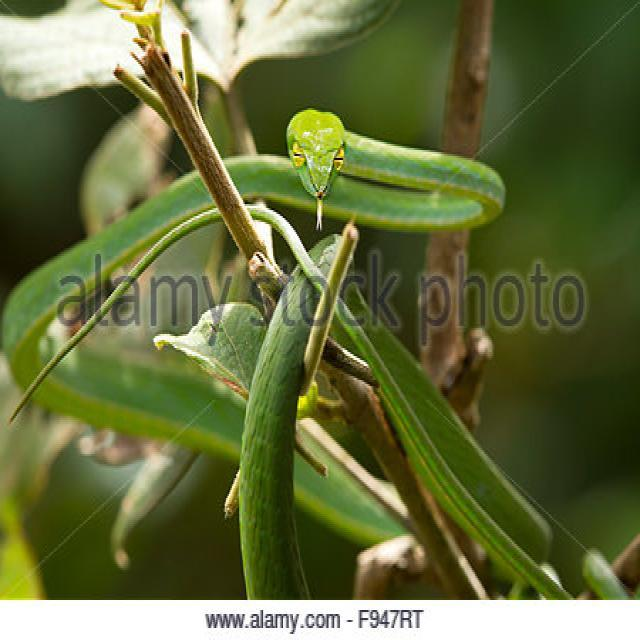Snake: (0, 106, 505, 594)
